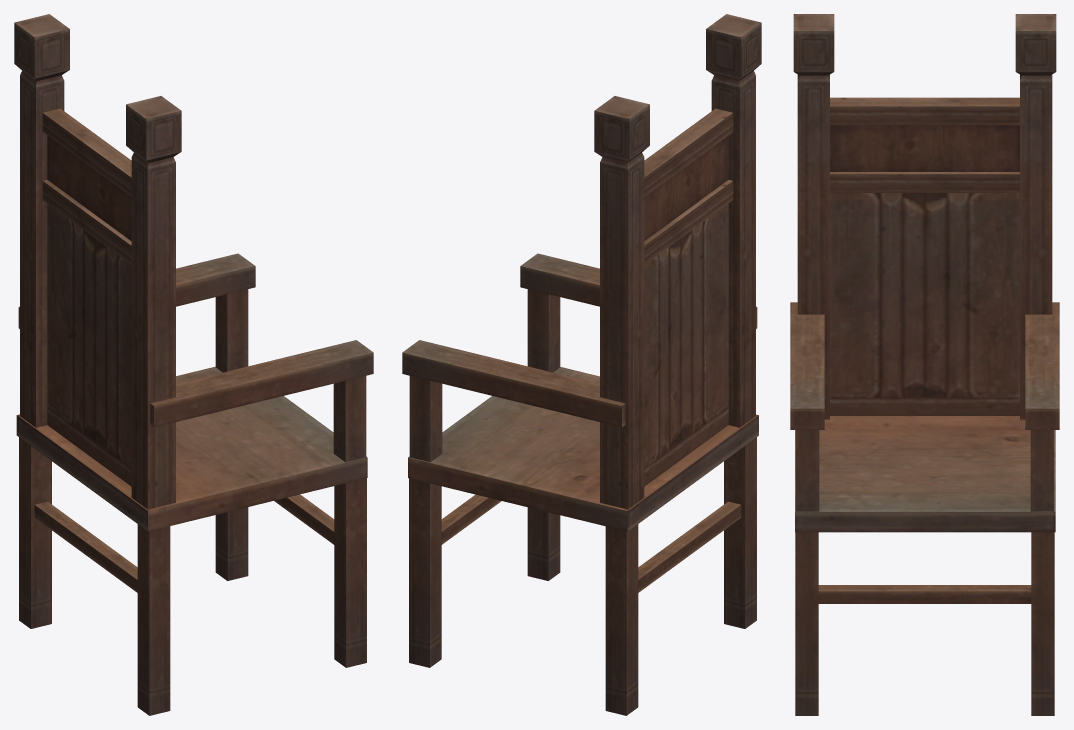
The model's file is bg_lut_lucastle_libraryprop05_sm_artree.FBX.
The picture shows the model from 3 angles, left to right: view 1: azimuth 30°, elevation 25°; view 2: azimuth 150°, elevation 25°; view 3: azimuth 270°, elevation 25°; orthographic projection.
Parts seen in each view (by area): view 1: bg_lut_lucastle_libraryprop05_sm_artree; view 2: bg_lut_lucastle_libraryprop05_sm_artree; view 3: bg_lut_lucastle_libraryprop05_sm_artree.
Part boxes in pixels (bbox=[...]): bg_lut_lucastle_libraryprop05_sm_artree: bbox=[14, 14, 373, 715]; bg_lut_lucastle_libraryprop05_sm_artree: bbox=[402, 14, 761, 715]; bg_lut_lucastle_libraryprop05_sm_artree: bbox=[790, 14, 1059, 715].
Bounding box in the file's own units: 49.86 × 126 × 51.84.
